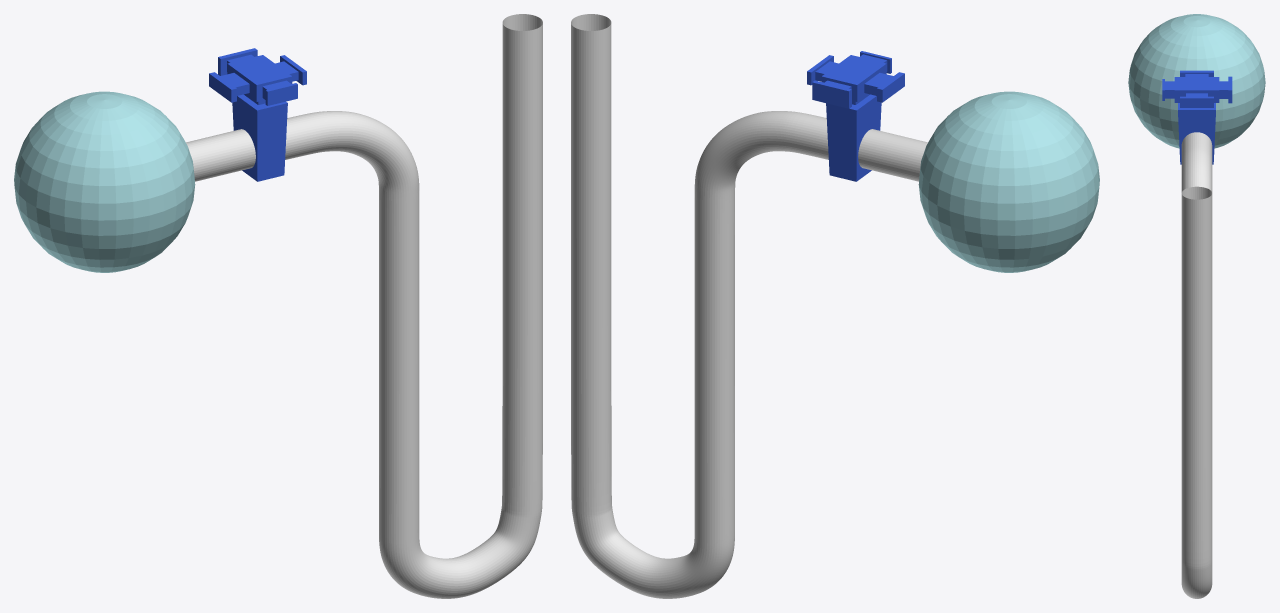
The model's file is open-end-barometer.glb.
3 views of the same model, side by side, from view 1: azimuth 30°, elevation 25°; view 2: azimuth 150°, elevation 25°; view 3: azimuth 270°, elevation 25° (orthographic). The views are drawn at different scales.
Parts seen in each view (by area): view 1: NurbsPath, Sphere, Cube; view 2: NurbsPath, Sphere, Cube; view 3: NurbsPath, Sphere, Cube.
Boxes of the visible parts, <box> form: NurbsPath: <box>186,14,542,598</box>; Sphere: <box>14,91,195,272</box>; Cube: <box>209,48,306,181</box>; NurbsPath: <box>571,14,927,598</box>; Sphere: <box>918,91,1099,272</box>; Cube: <box>807,51,904,181</box>; NurbsPath: <box>1181,132,1212,598</box>; Sphere: <box>1128,14,1265,148</box>; Cube: <box>1162,70,1232,164</box>.
Bounding box in the file's own units: 29.39 × 31.8 × 8.99.
